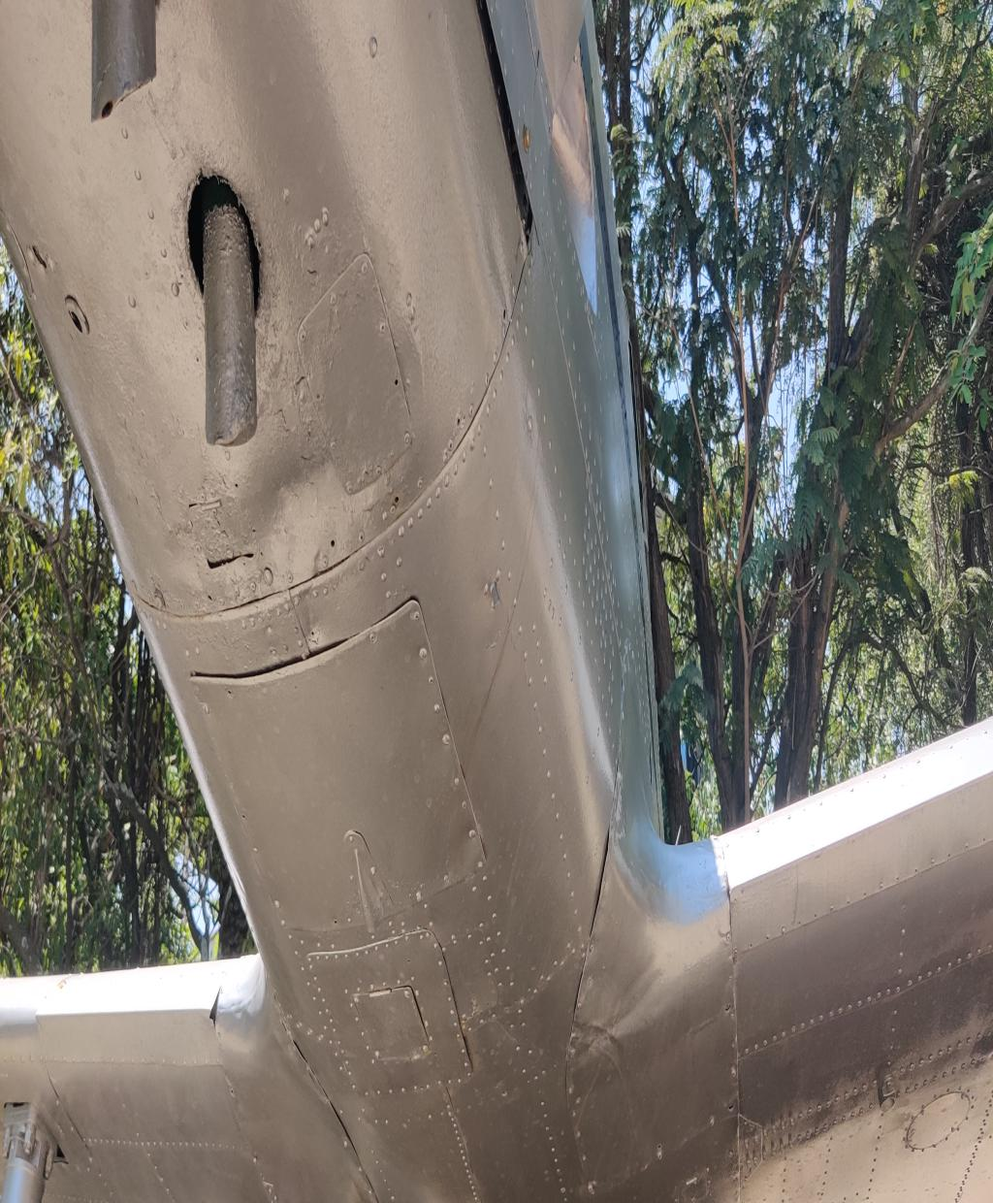dent: (257, 418, 334, 605), (578, 1002, 626, 1114)
